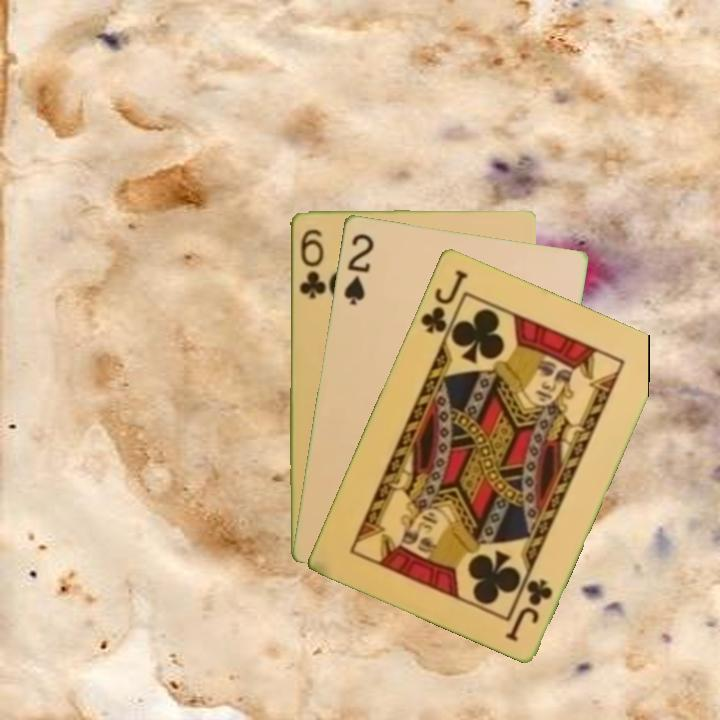2s: (340, 229, 377, 308)
6c: (295, 225, 326, 301)
Jc: (416, 265, 470, 336), (502, 574, 556, 644)
